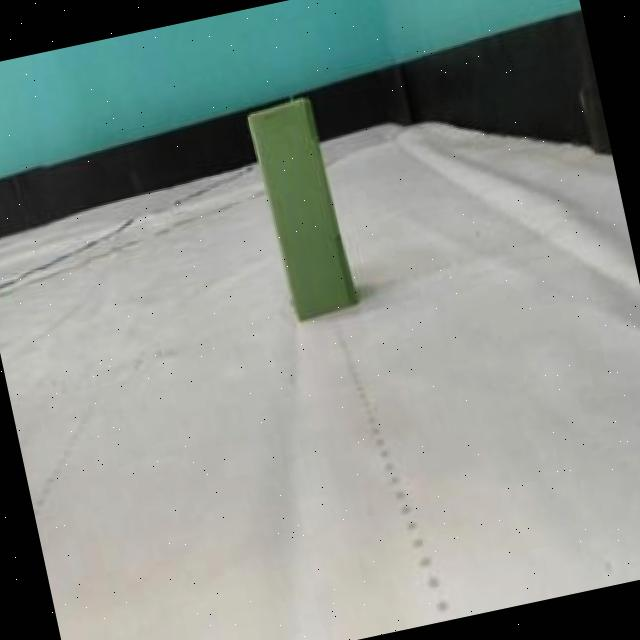greenbox: (243, 92, 360, 326)
